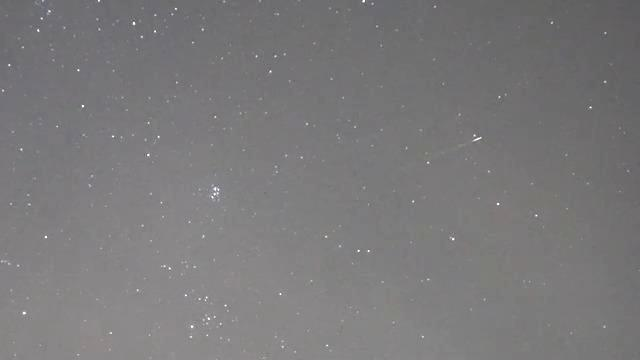meteorite: (442, 132, 502, 149)
